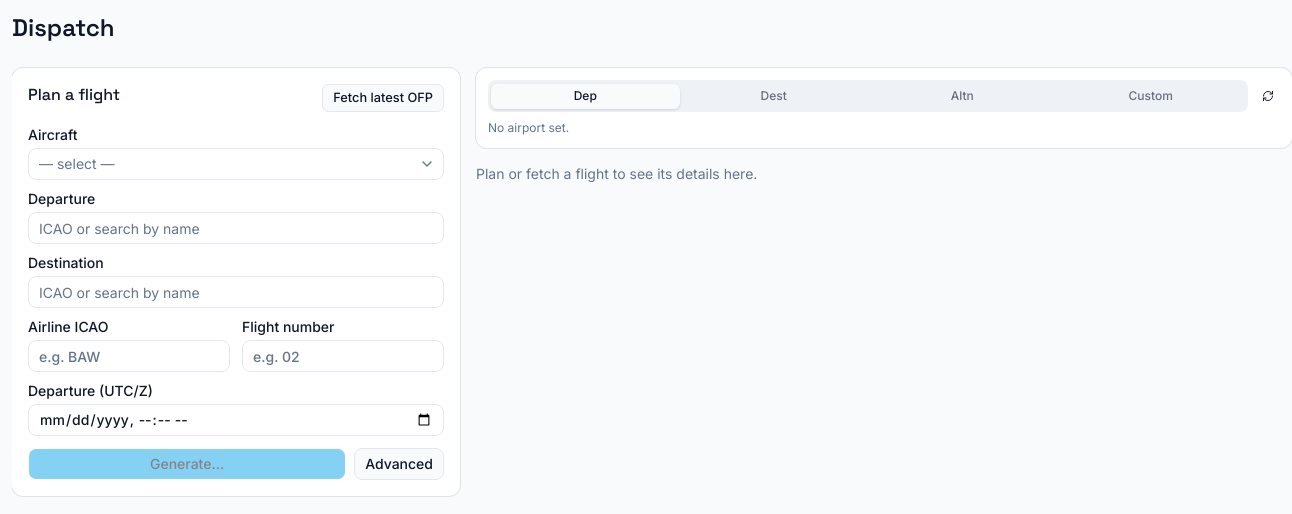
Scenario: DispatchView › selecting an aircraft to plan with › prefills departure from the aircraft's own currentIcao, and airline from operatorIcao
The width and height of the screenshot is (1292, 514).
Click the dropdown at (77, 164), box left=28, top=148, right=444, bottom=180
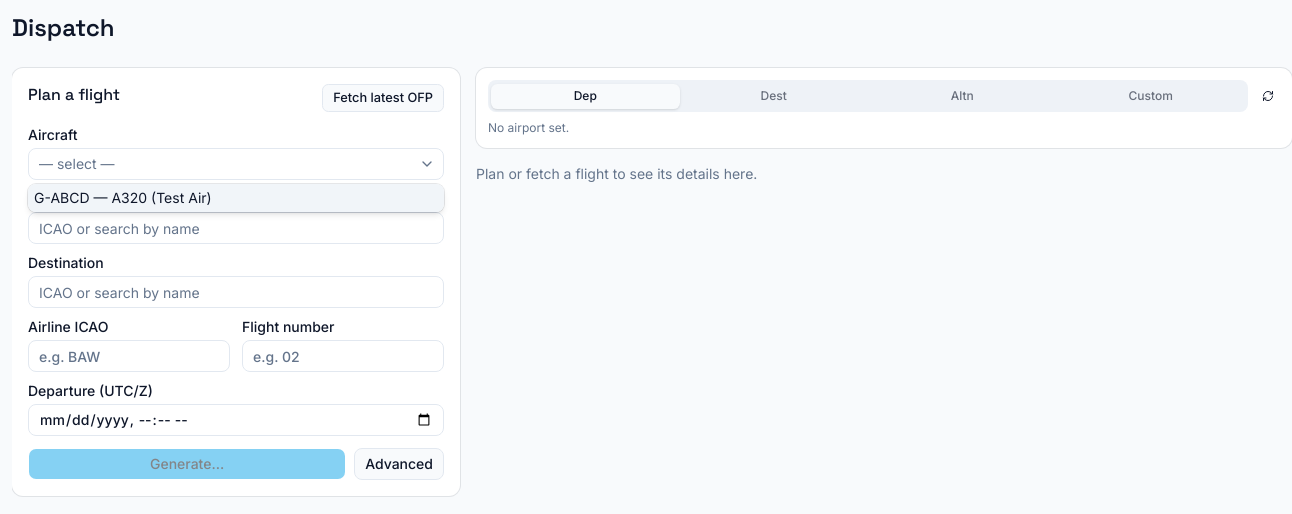
Click the option "G-ABCD — A320 (Test Air)" at (123, 198), box left=28, top=184, right=444, bottom=212
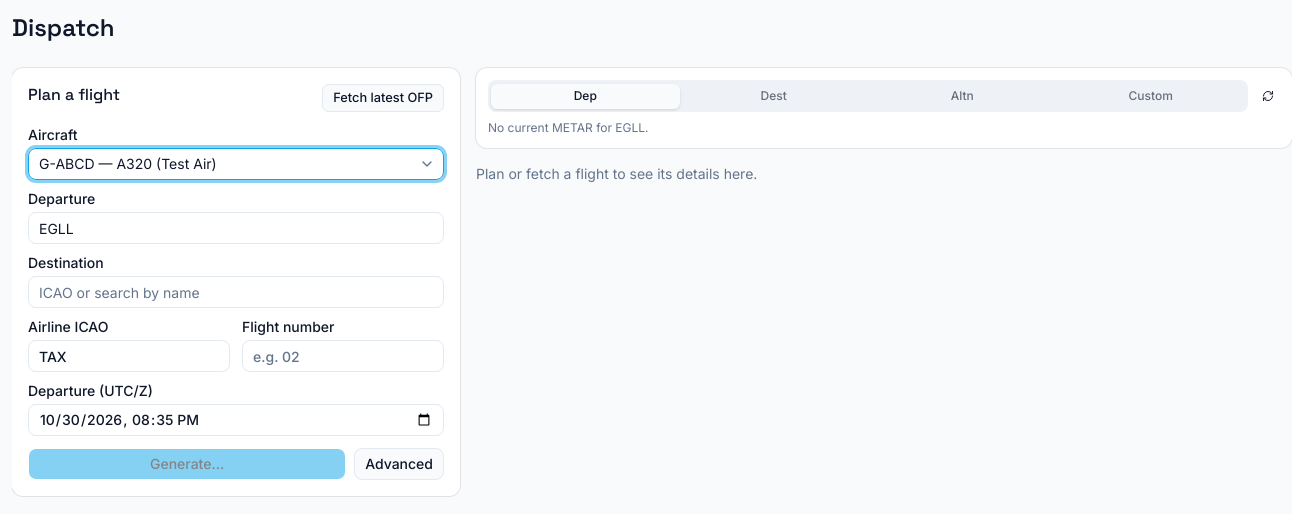
expect the field with placeholder "e.g. BAW" holds "TAX": met, box left=28, top=340, right=230, bottom=372
expect the 1st field holds "EGLL": met, box left=28, top=212, right=444, bottom=244
